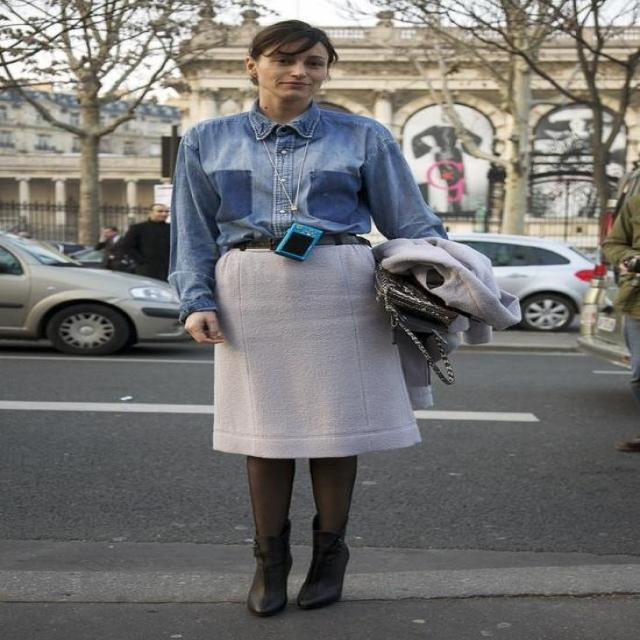shirt: (164, 96, 452, 320)
skirt: (210, 236, 422, 459)
